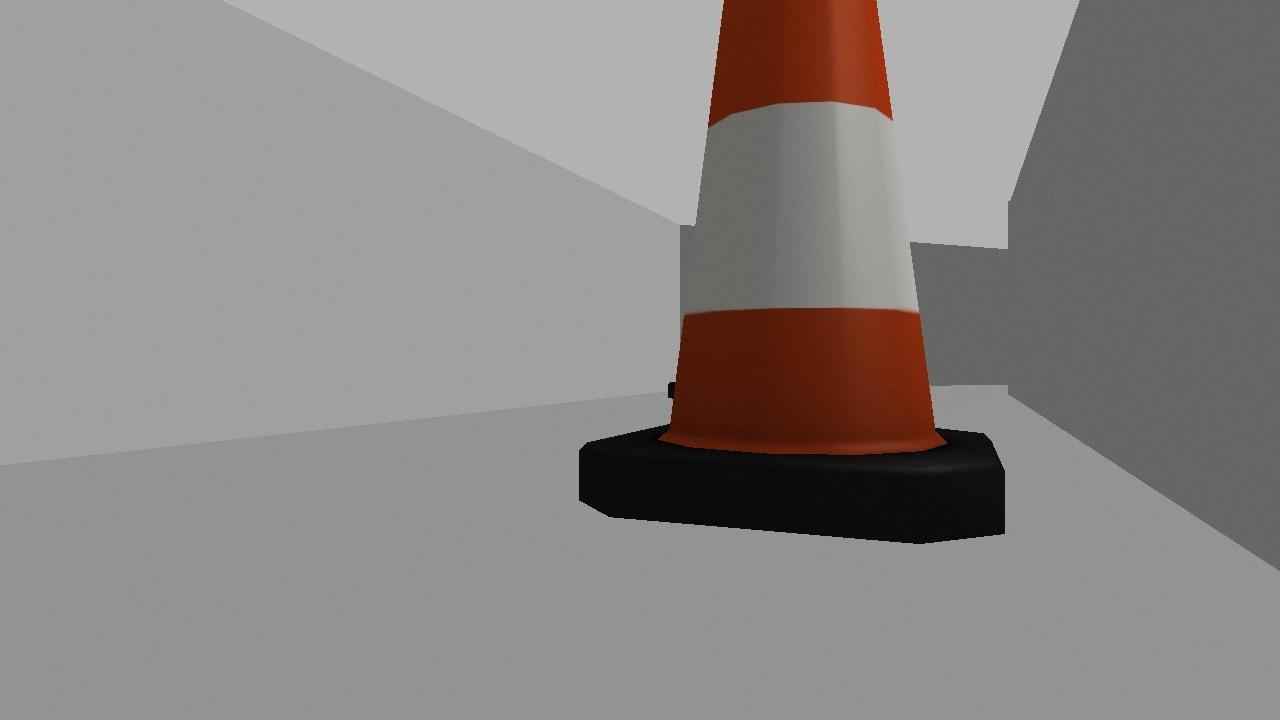cone_barrel: (576, 0, 1009, 544)
